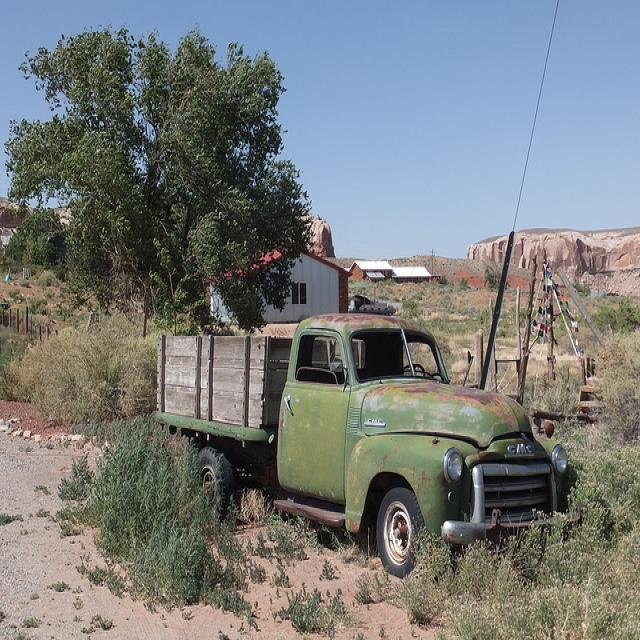Vehicle: (149, 312, 582, 580)
